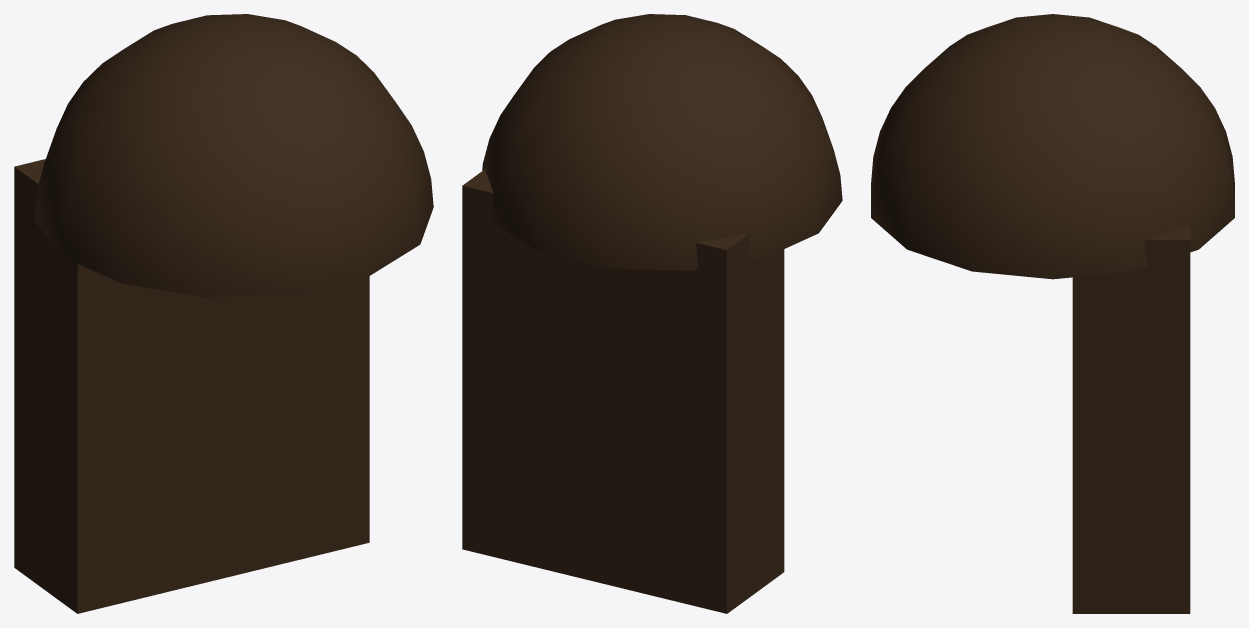
Rendered from hair_long_f.glb.
The picture shows the model from 3 angles, left to right: view 1: azimuth 30°, elevation 25°; view 2: azimuth 150°, elevation 25°; view 3: azimuth 270°, elevation 25°; orthographic projection. The views are drawn at different scales.
Visible parts, largest first — view 1: hair_drape, hair_long_f; view 2: hair_drape, hair_long_f; view 3: hair_long_f, hair_drape.
Boxes of the visible parts, bbox=[...] form: hair_drape: bbox=[14, 159, 369, 613]; hair_long_f: bbox=[34, 14, 433, 297]; hair_drape: bbox=[462, 169, 784, 613]; hair_long_f: bbox=[482, 14, 842, 270]; hair_long_f: bbox=[871, 14, 1234, 279]; hair_drape: bbox=[1072, 225, 1190, 613].
Size of the model in its own units: 0.38 by 0.58 by 0.3705.
